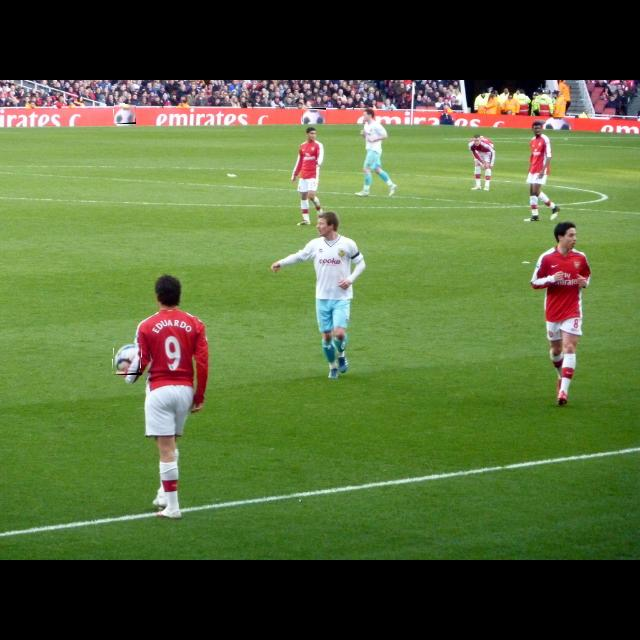Football: (112, 343, 142, 375), (114, 104, 136, 124), (302, 108, 326, 122), (545, 118, 571, 130)
